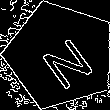N_NW: (28, 23, 93, 88)
